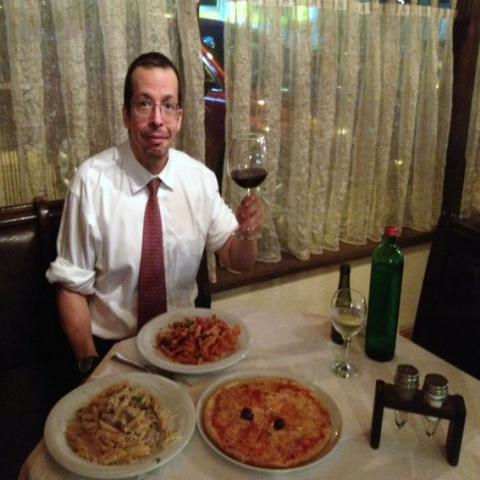car: (193, 19, 225, 191)
